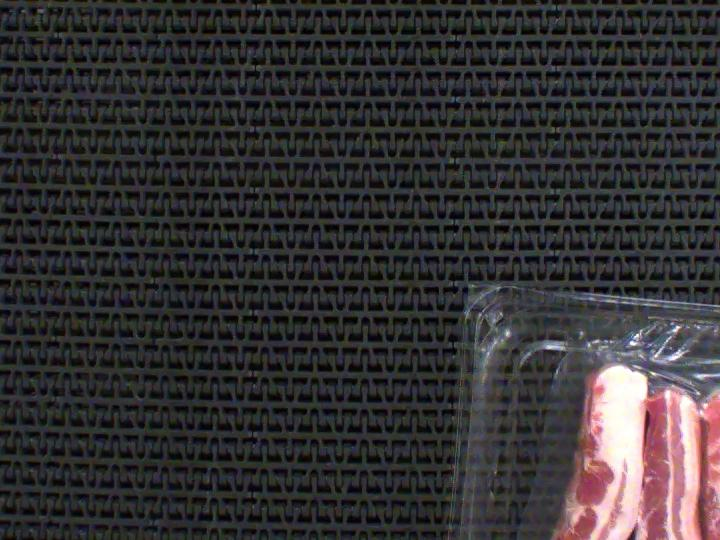unsealed: (480, 298, 720, 540)
